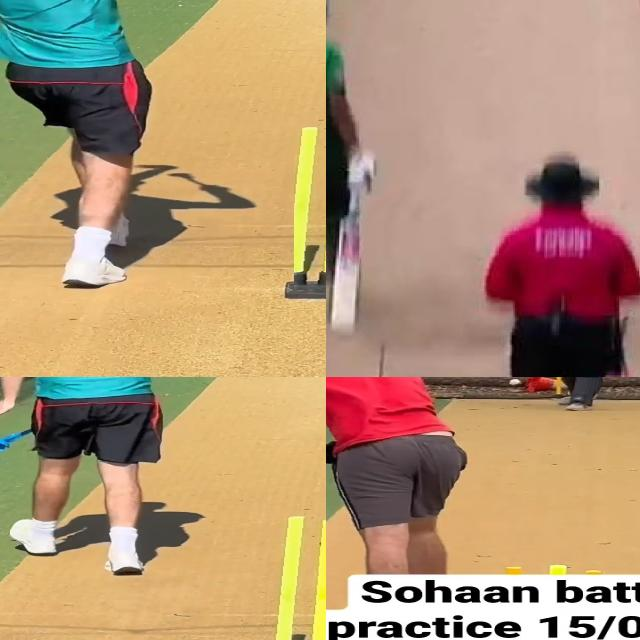Cricket ball: (509, 378, 521, 386)
Stumps: (267, 513, 326, 640), (294, 121, 326, 288)
